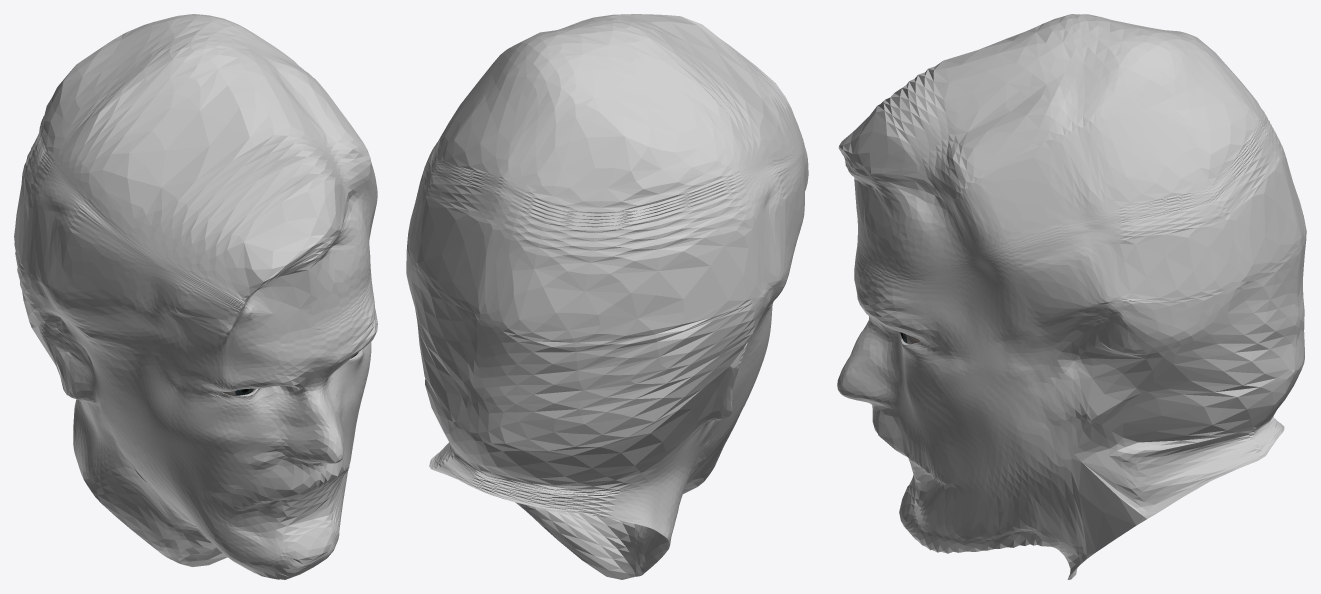
File: Young Obi-wan.fbx
3 renders of one model, left to right at view 1: azimuth 30°, elevation 25°; view 2: azimuth 150°, elevation 25°; view 3: azimuth 270°, elevation 25°, orthographic. The views are drawn at different scales.
Visible parts, largest first — view 1: obi_wan_Model_2:default1; view 2: obi_wan_Model_2:default1; view 3: obi_wan_Model_2:default1.
Boxes of the visible parts, left/top/right/bottom form: obi_wan_Model_2:default1: left=14, top=14, right=377, bottom=579; obi_wan_Model_2:default1: left=406, top=14, right=808, bottom=579; obi_wan_Model_2:default1: left=837, top=14, right=1306, bottom=579.
Bounding box in the file's own units: 15.88 × 24.96 × 19.39.
